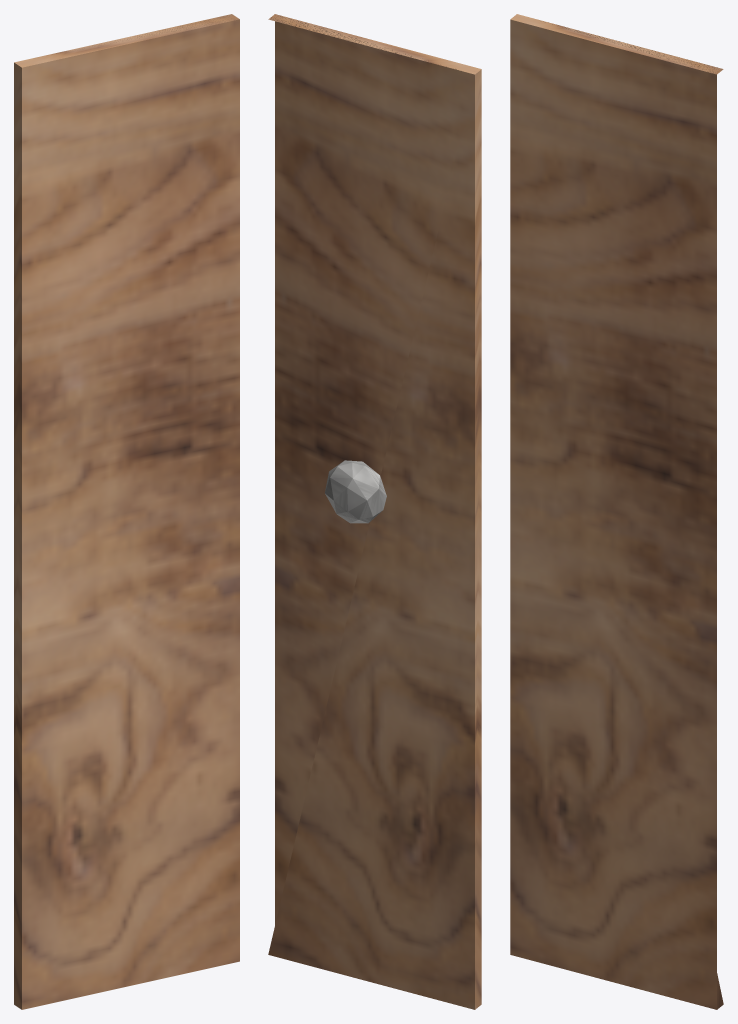
Rendered from porta_armario.fbx.
3 views of the same model, side by side, from view 1: azimuth 30°, elevation 25°; view 2: azimuth 150°, elevation 25°; view 3: azimuth 330°, elevation 25° (orthographic).
Parts seen in each view (by area): view 1: armario.002; view 2: armario.002; view 3: armario.002.
Boxes of the visible parts, x1,y1,x2,y2 form: armario.002: (14,14,239,1009); armario.002: (268,14,481,1009); armario.002: (510,14,723,1009).
Size of the model in its own units: 45.85 by 193 by 10.99.
Materials: 1 (1 with a texture image).
